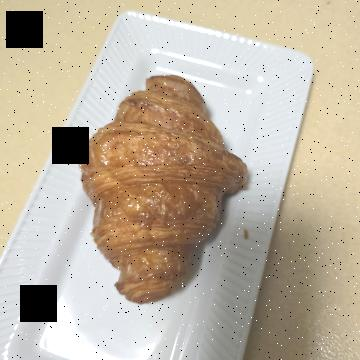croissant: (65, 102, 338, 291)
